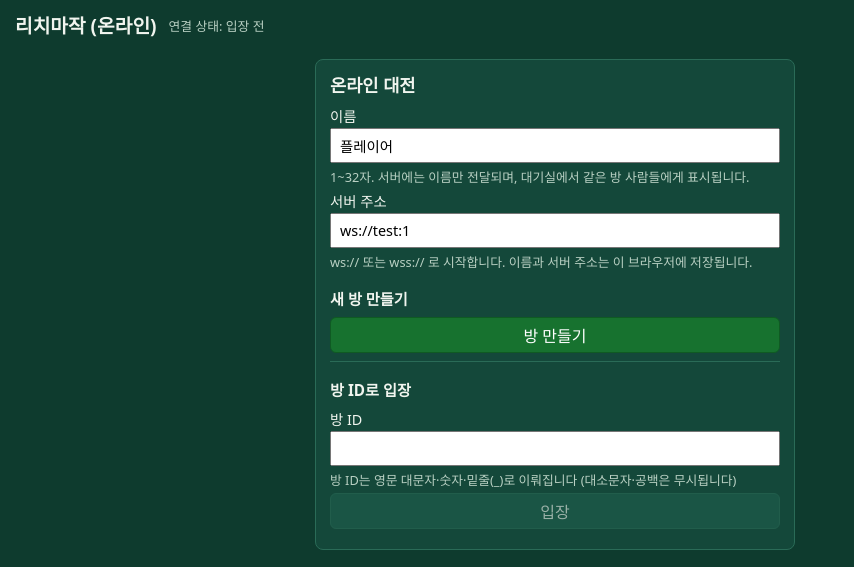
App: 연결 UX 화면 › 입장 전 연결 실패: 배너는 있지만 다시 연결은 없고, 헤더는 입장 전이다
Click the button "방 만들기" at x=555, y=335, box x1=330 y1=317 x2=780 y2=353
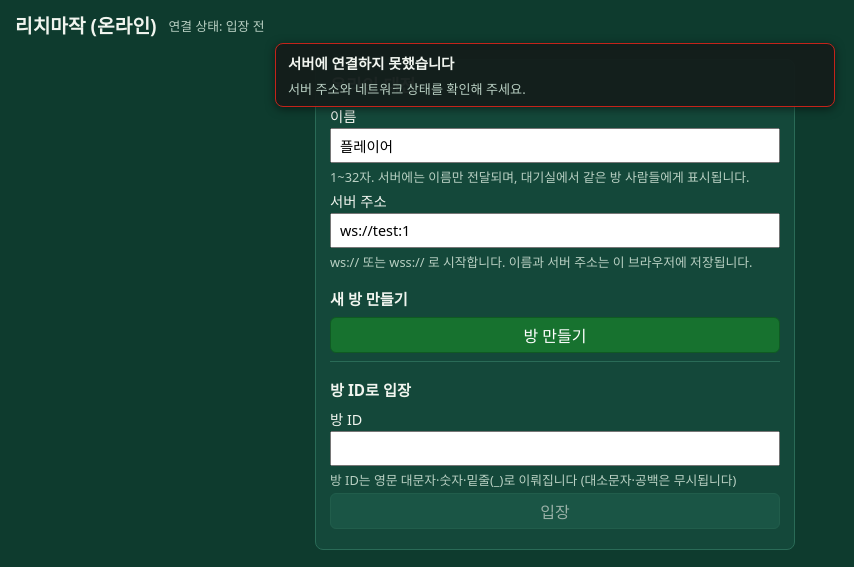
Check: the text with test id "server-status" shows "입장 전", box x1=226 y1=16 x2=264 y2=34
Check: the message with test id "connection-banner" shows "서버에 연결하지 못했습니다", box x1=288 y1=54 x2=454 y2=73
